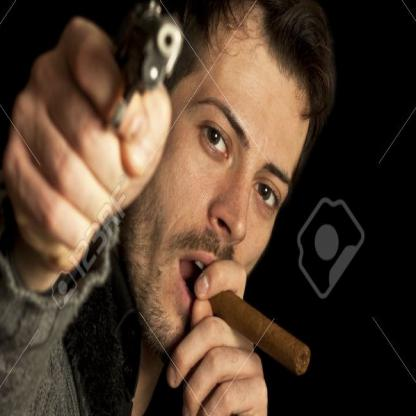gun: (93, 0, 185, 139)
